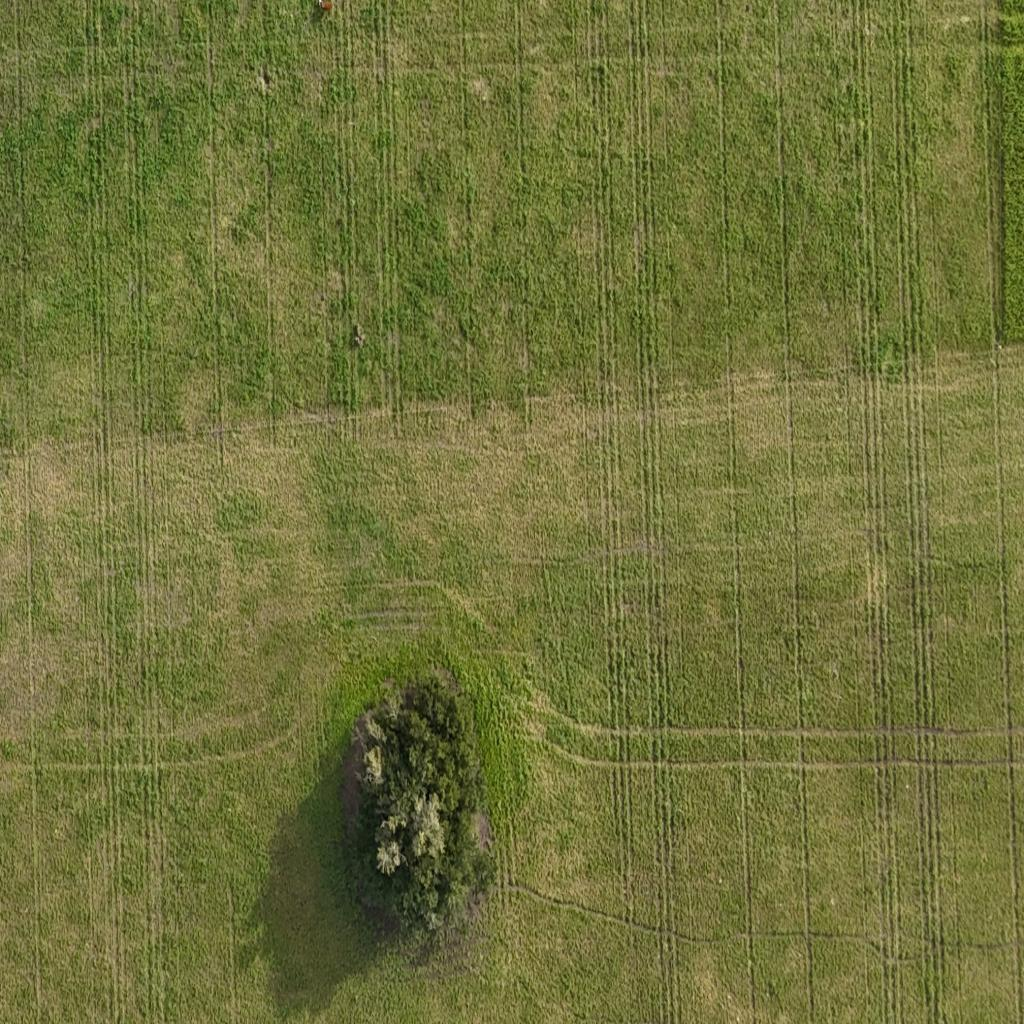cow: (311, 0, 333, 20)
